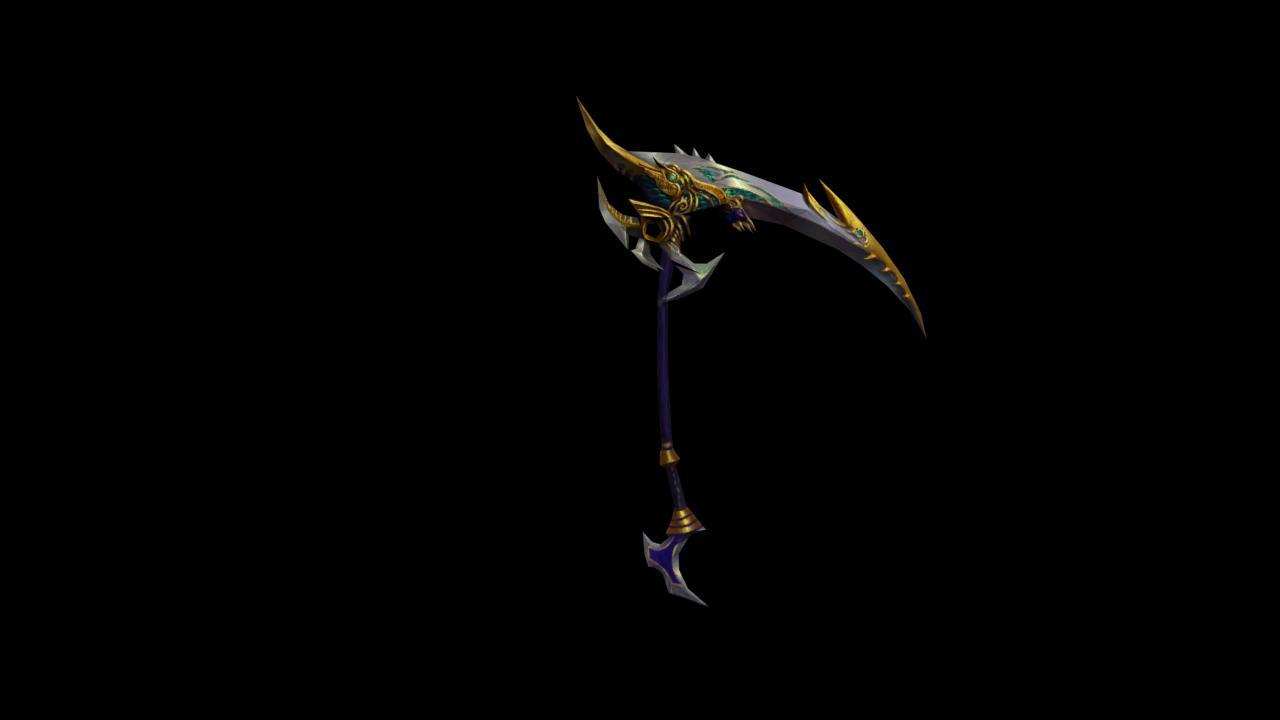foice: (577, 101, 924, 605)
